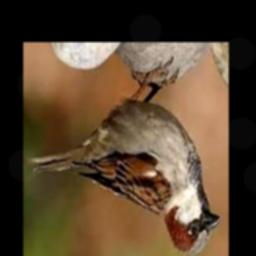Sparrow: (26, 58, 220, 255)
